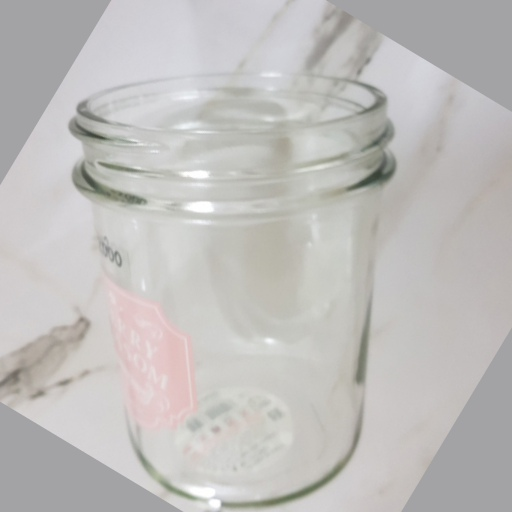Glass_5: (67, 74, 398, 500)
